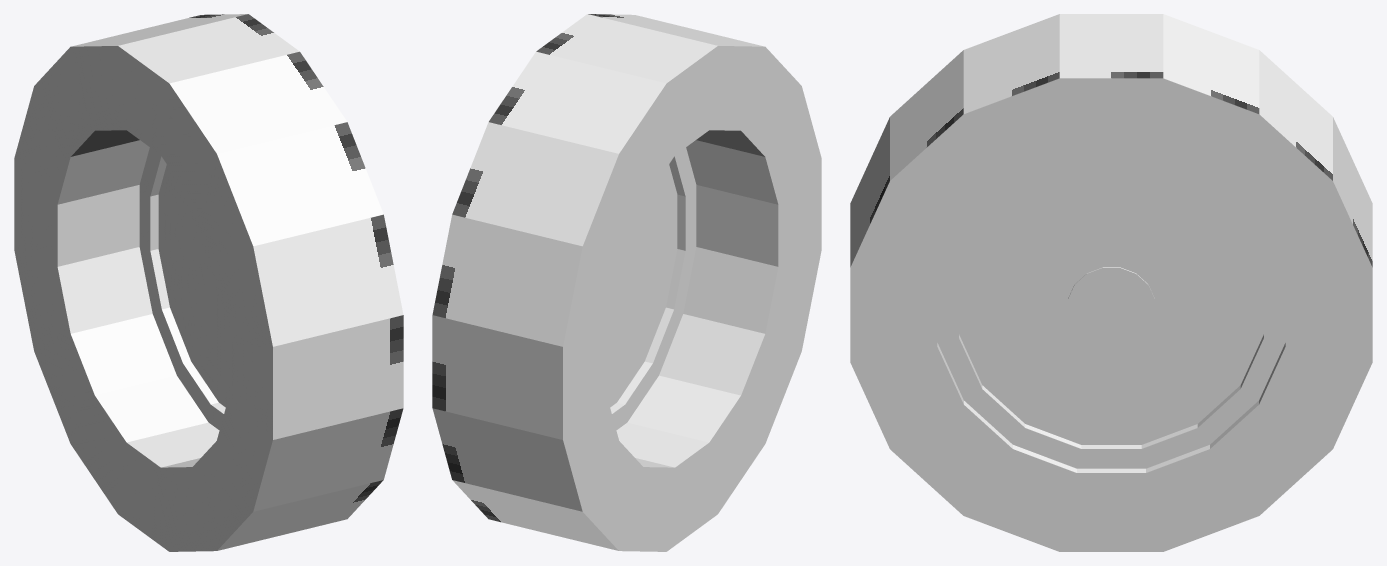
The model's file is gpp_mediumtire.obj.
3 views of the same model, side by side, from view 1: azimuth 30°, elevation 25°; view 2: azimuth 150°, elevation 25°; view 3: azimuth 270°, elevation 25° (orthographic).
Parts seen in each view (by area): view 1: hexadecagon, steelie; view 2: hexadecagon, steelie; view 3: hexadecagon, steelie.
Part boxes in pixels (bbox=[...]): hexadecagon: bbox=[14, 14, 403, 551]; steelie: bbox=[139, 147, 229, 430]; hexadecagon: bbox=[432, 14, 821, 551]; steelie: bbox=[606, 147, 696, 430]; hexadecagon: bbox=[850, 14, 1372, 551]; steelie: bbox=[937, 157, 1285, 468].
Bounding box in the file's own units: 0.2541 × 0.8712 × 0.8712.
